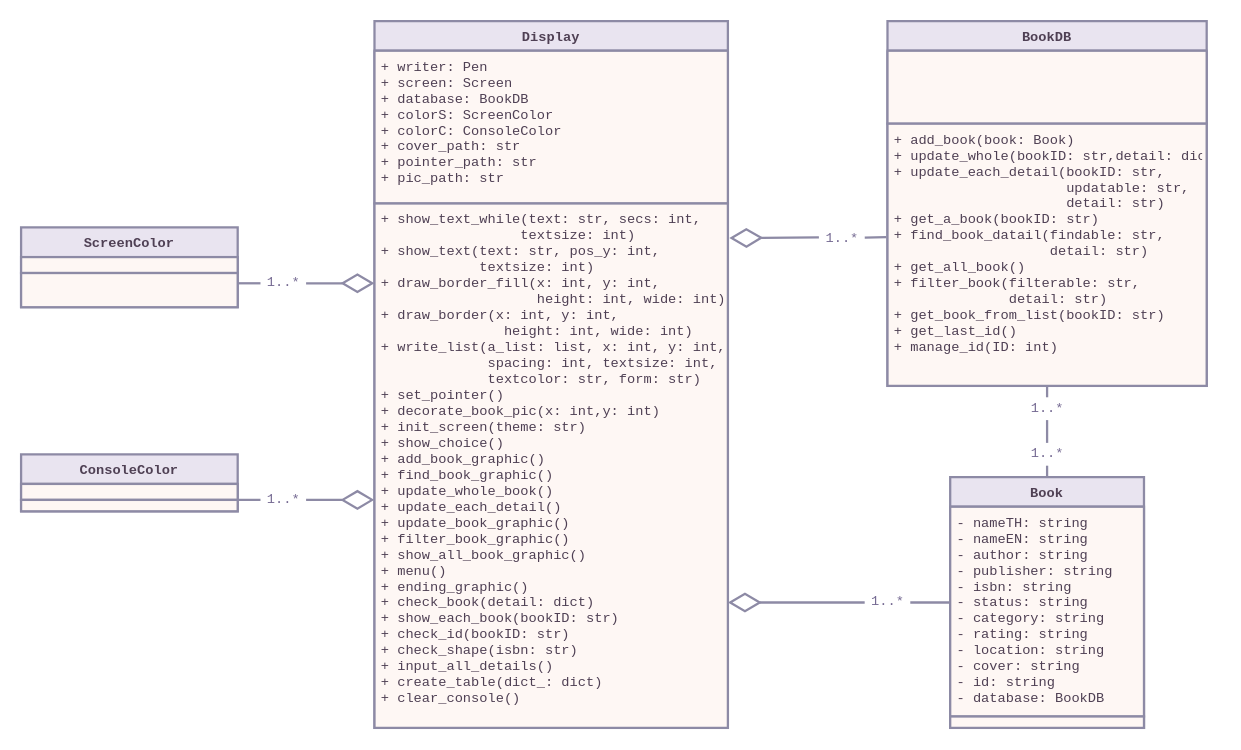
This 1241x750 diagram has some shape labels left out. The shapes that lost their labels are listed below. From the top down, each one's centre as x and y in pixels, then its label:
At point (1046, 86): "- filename: string - fileID: string + book_list: list of object".
At point (128, 289): "+ select_theme(theme: str)".
